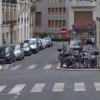crosswalk: (0, 81, 99, 94), (9, 64, 52, 70)
